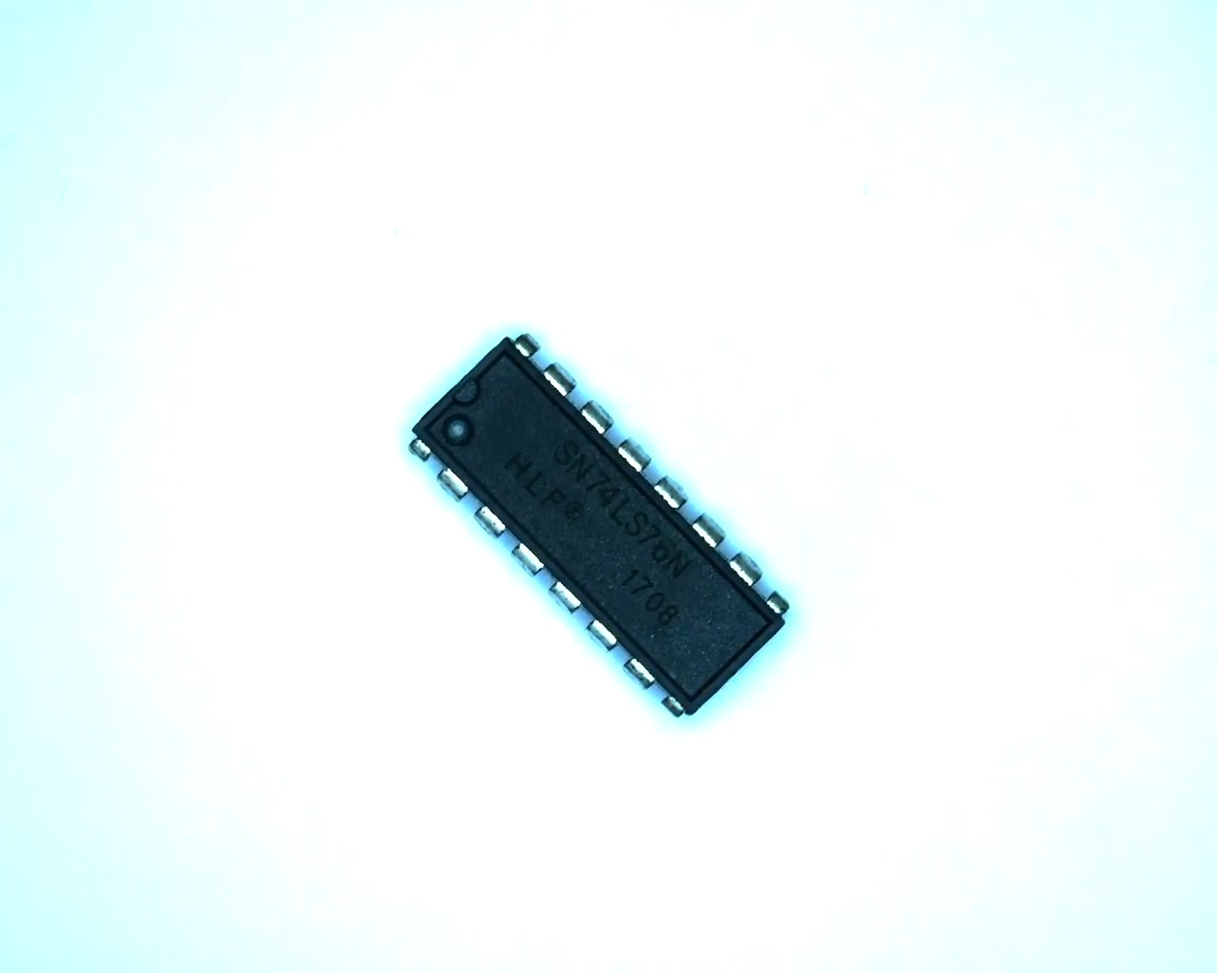IC: (393, 315, 809, 733)
notch: (448, 372, 486, 411)
